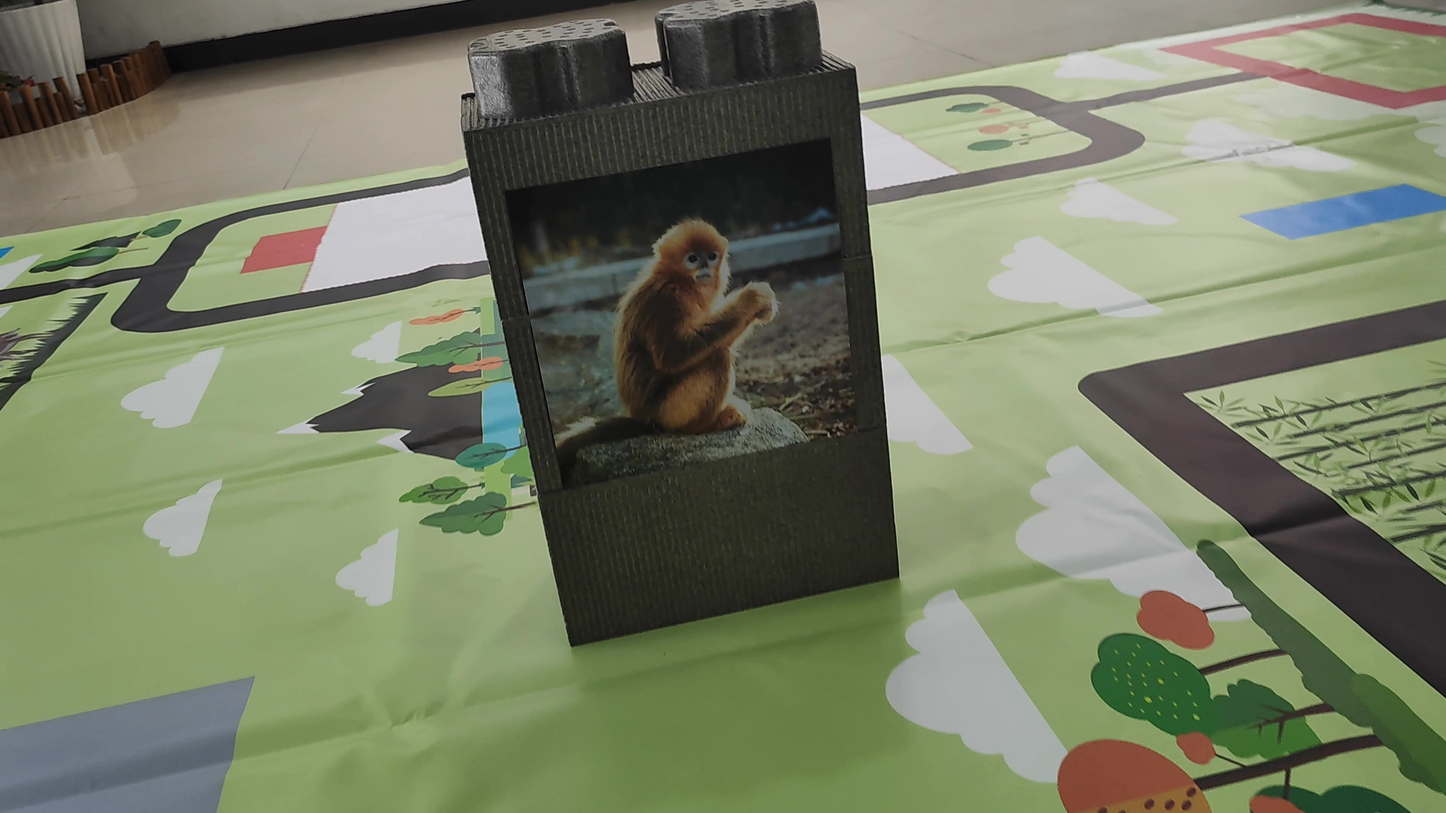monkey: (535, 198, 808, 473)
